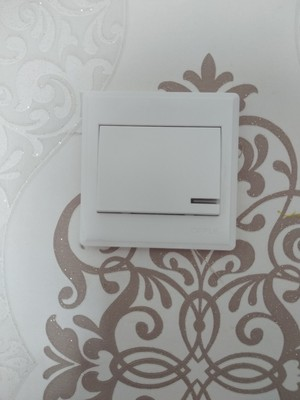switch: (96, 121, 230, 218)
